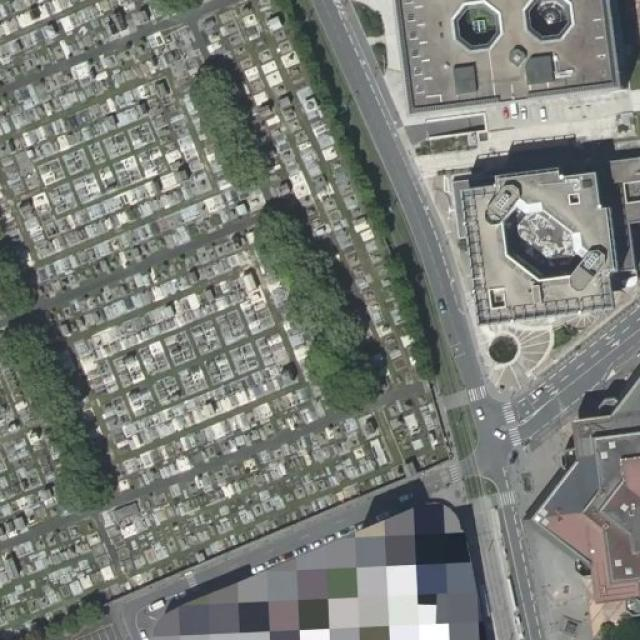immeuble: (381, 0, 636, 143), (428, 164, 638, 328), (520, 380, 640, 619)
